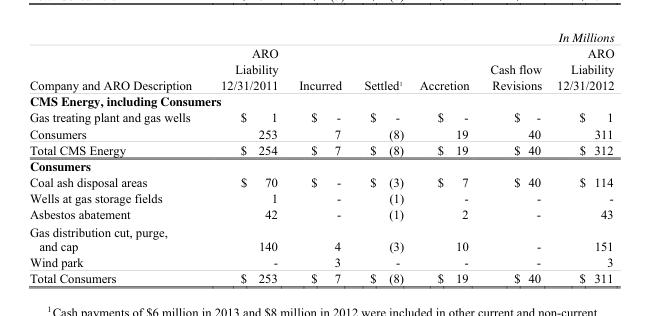table: (28, 28, 613, 285)
table column: (28, 28, 205, 285), (205, 28, 287, 285), (410, 28, 479, 285), (479, 28, 548, 285), (287, 28, 352, 285), (548, 28, 613, 285), (352, 28, 410, 285)
table column header: (28, 28, 613, 92)
table projected row header: (28, 156, 613, 174), (28, 92, 613, 109)
table row: (28, 45, 613, 92), (28, 222, 613, 254), (28, 156, 613, 174), (28, 28, 613, 45), (28, 92, 613, 109), (28, 205, 613, 222), (28, 109, 613, 125), (28, 125, 613, 141), (28, 189, 613, 205), (28, 254, 613, 270), (28, 141, 613, 156), (28, 174, 613, 189), (28, 270, 613, 285)
table spanning cell: (28, 28, 205, 92), (205, 28, 287, 92), (410, 28, 479, 92), (287, 28, 352, 92), (352, 28, 410, 92), (479, 28, 613, 45)
